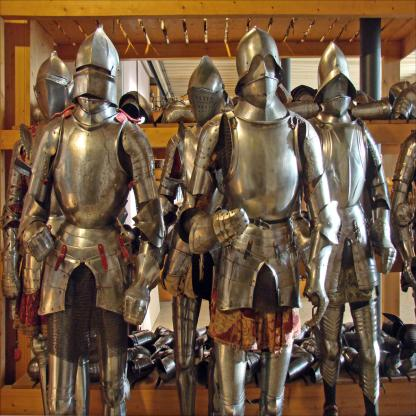Helmet: (62, 34, 115, 123), (234, 25, 284, 94), (34, 50, 72, 122), (187, 56, 225, 128), (312, 42, 358, 101), (120, 89, 154, 123)
